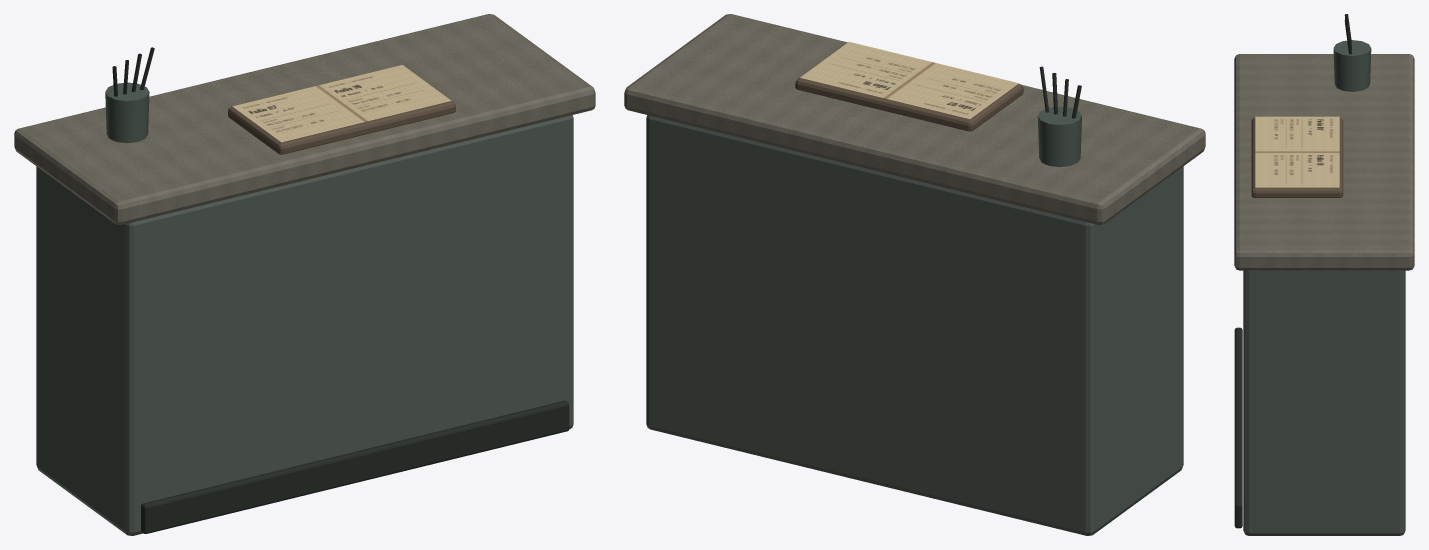
Rendered from reception.glb.
3 renders of one model, left to right at view 1: azimuth 30°, elevation 25°; view 2: azimuth 150°, elevation 25°; view 3: azimuth 270°, elevation 25°, orthographic. The views are drawn at different scales.
Parts seen in each view (by area): view 1: Counter_base, Counter_top, Counter_toe, LEDGER_OPEN, Ledger_cover, Pen_cup; view 2: Counter_base, Counter_top, LEDGER_OPEN, Ledger_cover, Pen_cup; view 3: Counter_base, Counter_top, LEDGER_OPEN, Counter_toe, Pen_cup, Ledger_cover.
Boxes of the visible parts, x1,y1,x2,y2 form: Counter_base: (36,115,573,535); Counter_top: (14,14,595,224); Counter_toe: (141,400,569,533); LEDGER_OPEN: (232,65,451,142); Ledger_cover: (228,66,455,154); Pen_cup: (105,82,149,143); Counter_base: (646,115,1183,535); Counter_top: (624,14,1205,224); LEDGER_OPEN: (800,42,1018,118); Ledger_cover: (795,43,1023,131); Pen_cup: (1037,106,1081,166); Counter_base: (1243,270,1405,535); Counter_top: (1234,54,1414,270); LEDGER_OPEN: (1255,116,1339,187); Counter_toe: (1234,327,1242,528); Pen_cup: (1333,40,1371,91); Ledger_cover: (1251,117,1343,197).
Size of the model in its own units: 1.58 by 1.34 by 0.6.
Materials: 6 (2 with a texture image).
